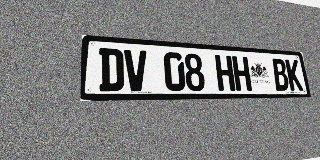0: (163, 52, 186, 91)
8: (184, 53, 205, 91)
B: (271, 58, 290, 91)
D: (99, 48, 124, 91)
H: (215, 55, 236, 91), (232, 56, 252, 91)
K: (285, 59, 303, 91)
V: (124, 49, 148, 91)
